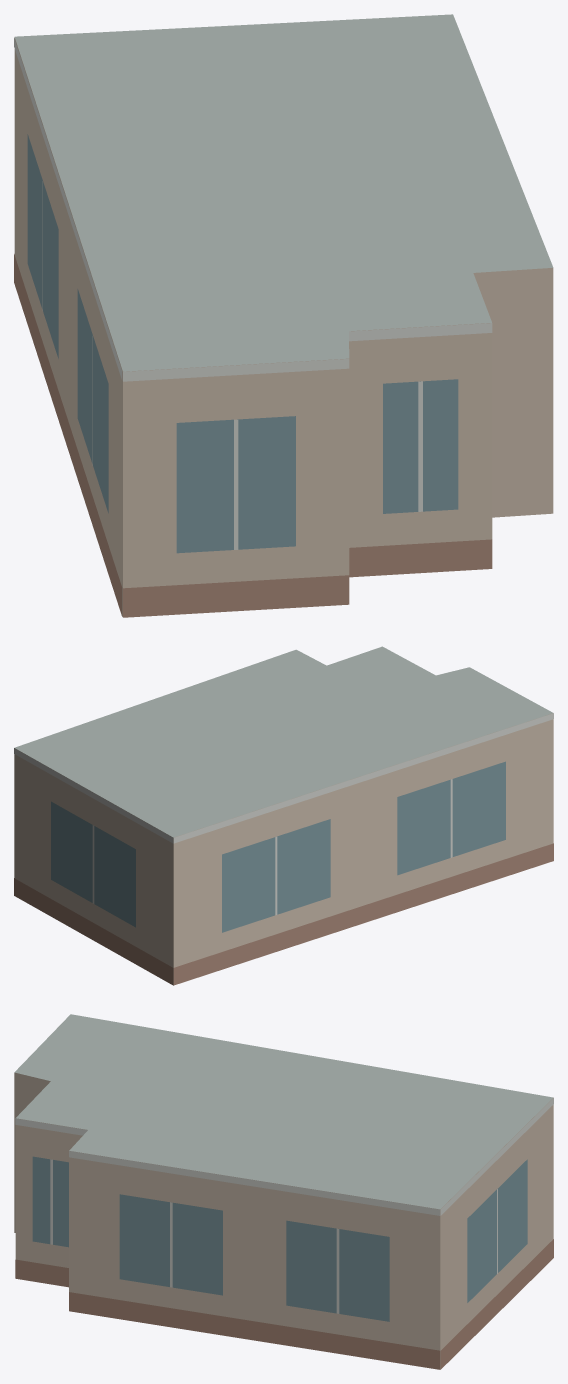
The model's file is survey-upis-32810671.glb.
The picture shows the model from 3 angles, top to bottom: view 1: azimuth 30°, elevation 25°; view 2: azimuth 150°, elevation 25°; view 3: azimuth 270°, elevation 25°; orthographic projection. The views are drawn at different scales.
Parts seen in each view (by area): view 1: survey-upis-32810671.tmp; view 2: survey-upis-32810671.tmp; view 3: survey-upis-32810671.tmp.
Boxes of the visible parts, x1,y1,x2,y2 form: survey-upis-32810671.tmp: (14, 14, 553, 617); survey-upis-32810671.tmp: (14, 646, 553, 985); survey-upis-32810671.tmp: (14, 1014, 553, 1369).
Size of the model in its own units: 7.98 by 3.05 by 9.31.
